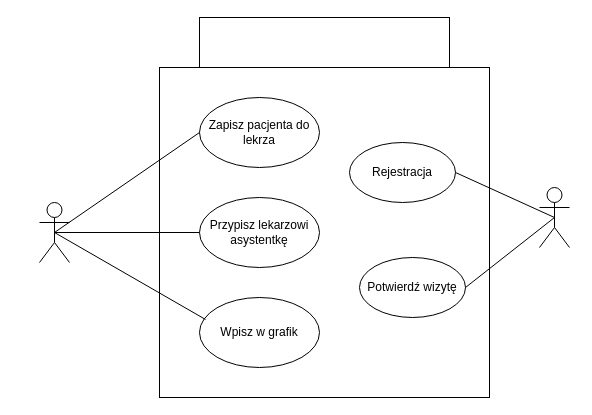
Image size: 592x415. Some labels were removed from this diagram. The centre of each missing label's shape, as x and y in pixels:
"Pacjent" goes at [554,217].
"Recepjonistka" goes at [54,232].
"Rejestracja wizyty" goes at [324,42].
